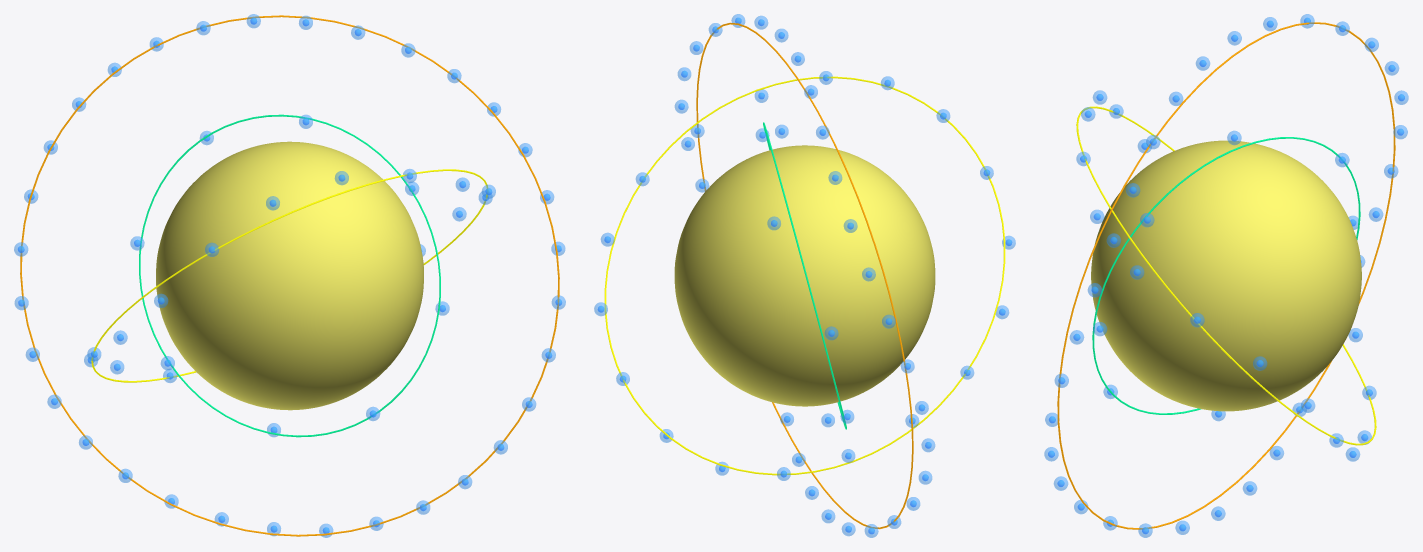
3 renders of one model, left to right at view 1: azimuth 30°, elevation 25°; view 2: azimuth 150°, elevation 25°; view 3: azimuth 270°, elevation 25°, orthographic. The views are drawn at different scales.
Visible parts, largest first — view 1: Nd, object 61, object 7, object 24; view 2: Nd, object 24, object 61, object 7; view 3: Nd, object 61, object 24, object 7.
Boxes of the visible parts, left/top/right/bottom form: Nd: left=156, top=141, right=423, bottom=410; object 61: left=20, top=15, right=559, bottom=536; object 7: left=139, top=114, right=440, bottom=437; object 24: left=91, top=169, right=487, bottom=382; Nd: left=674, top=145, right=935, bottom=406; object 24: left=604, top=76, right=1005, bottom=475; object 61: left=696, top=22, right=913, bottom=529; object 7: left=763, top=122, right=846, bottom=429; Nd: left=1091, top=140, right=1361, bottom=411; object 61: left=1057, top=22, right=1395, bottom=529; object 24: left=1076, top=106, right=1376, bottom=445; object 7: left=1092, top=137, right=1360, bottom=414.
Bounding box in the file's own units: 5.12 × 6.15 × 4.
